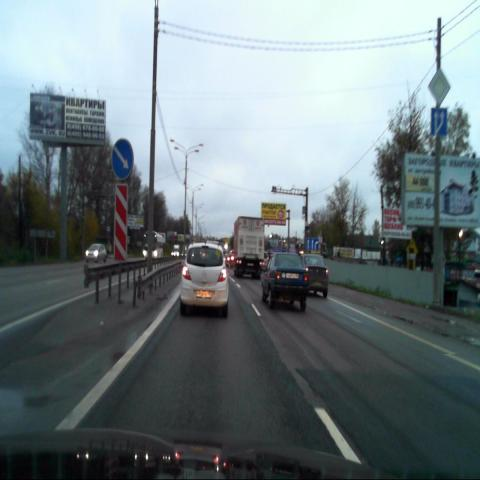4_2_1: (111, 138, 134, 181)
5_15_3: (430, 107, 447, 138)
